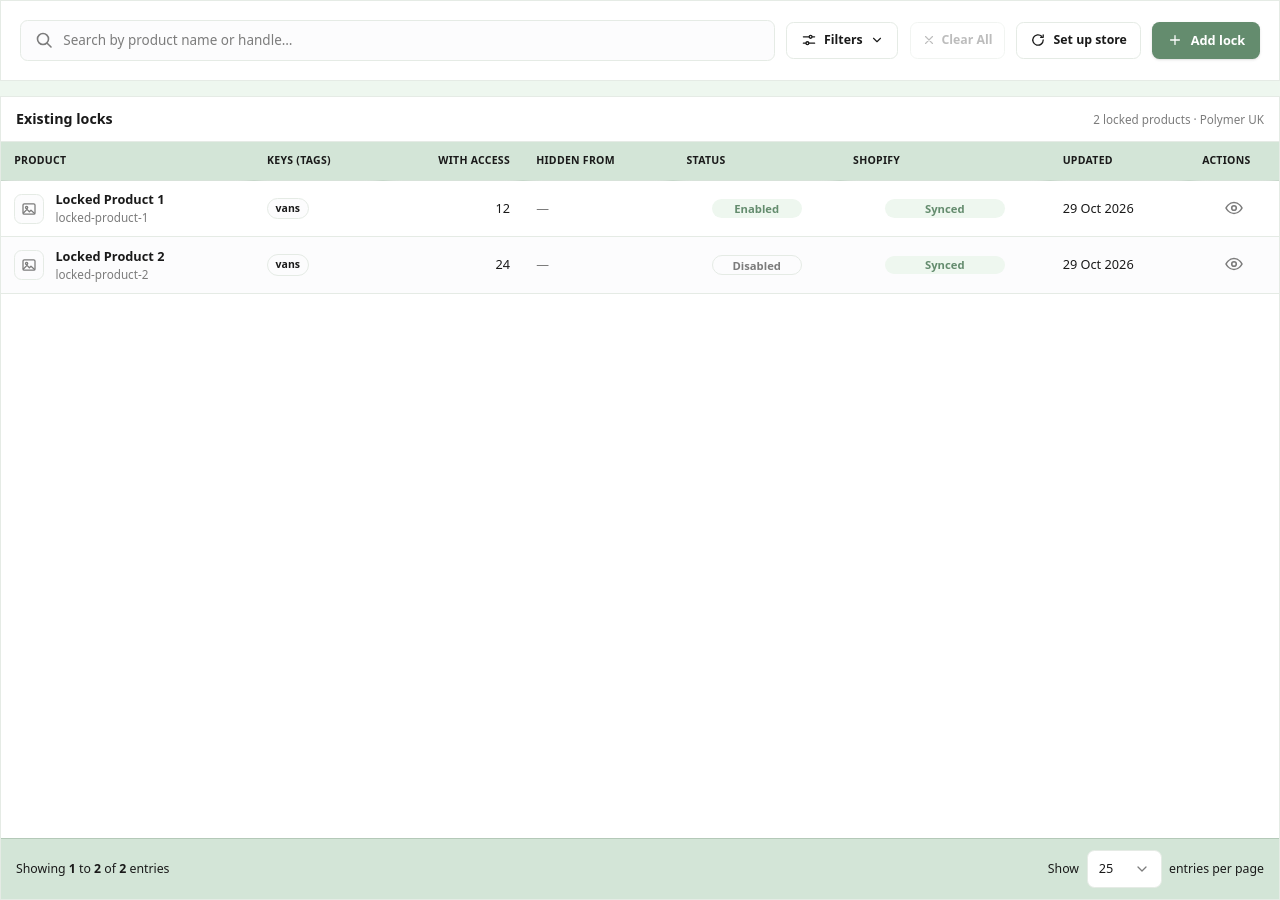
it: LocksPage › list › sets the store up after a confirmation, and says what the backend answered
expect the button "Locked Product 1" is shown: met, box [55,190,164,209]
Click the button "Set up store".
click(1078, 40)  # box [1016,22,1141,59]
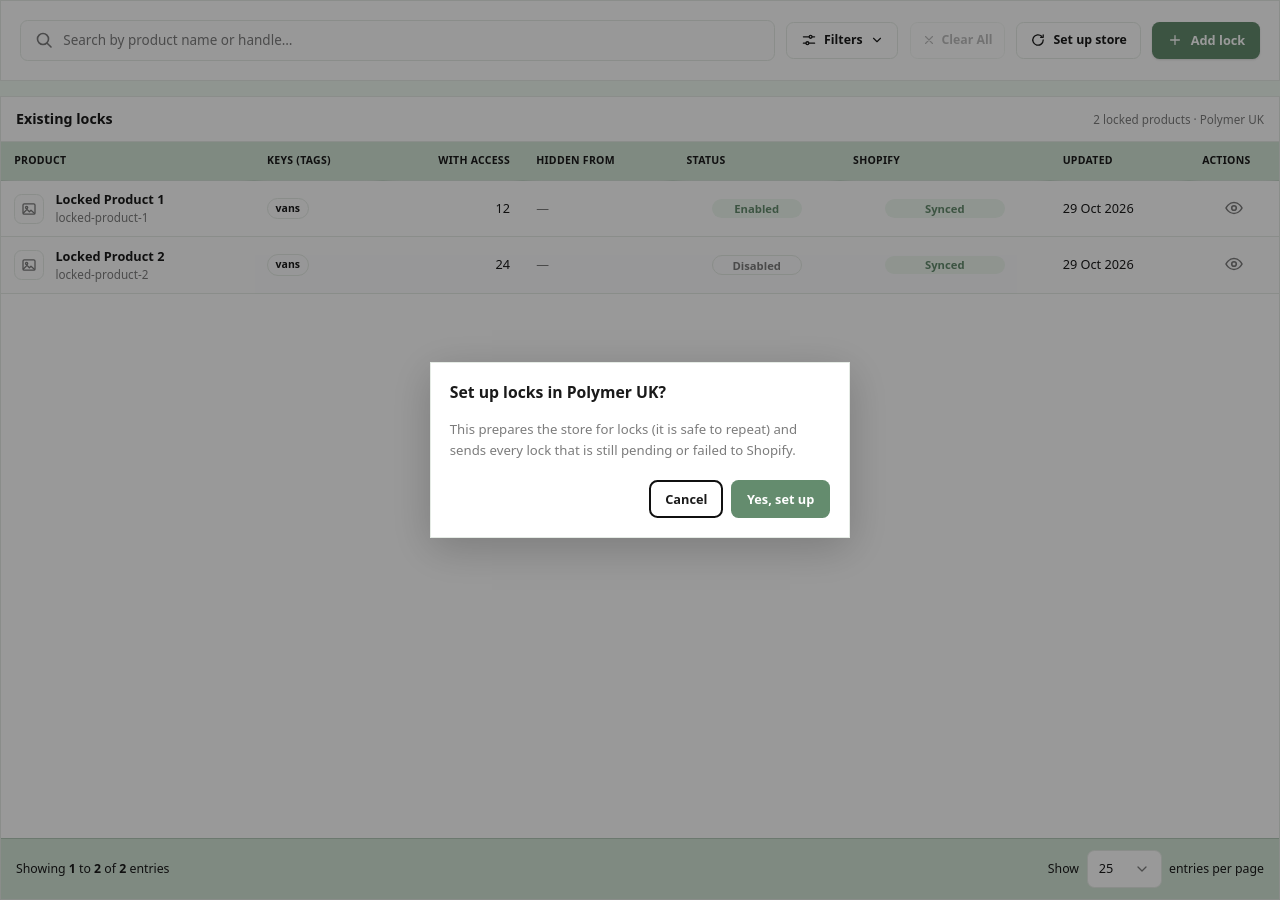
Click the button "Yes, set up".
click(781, 499)  # box [731,480,830,518]
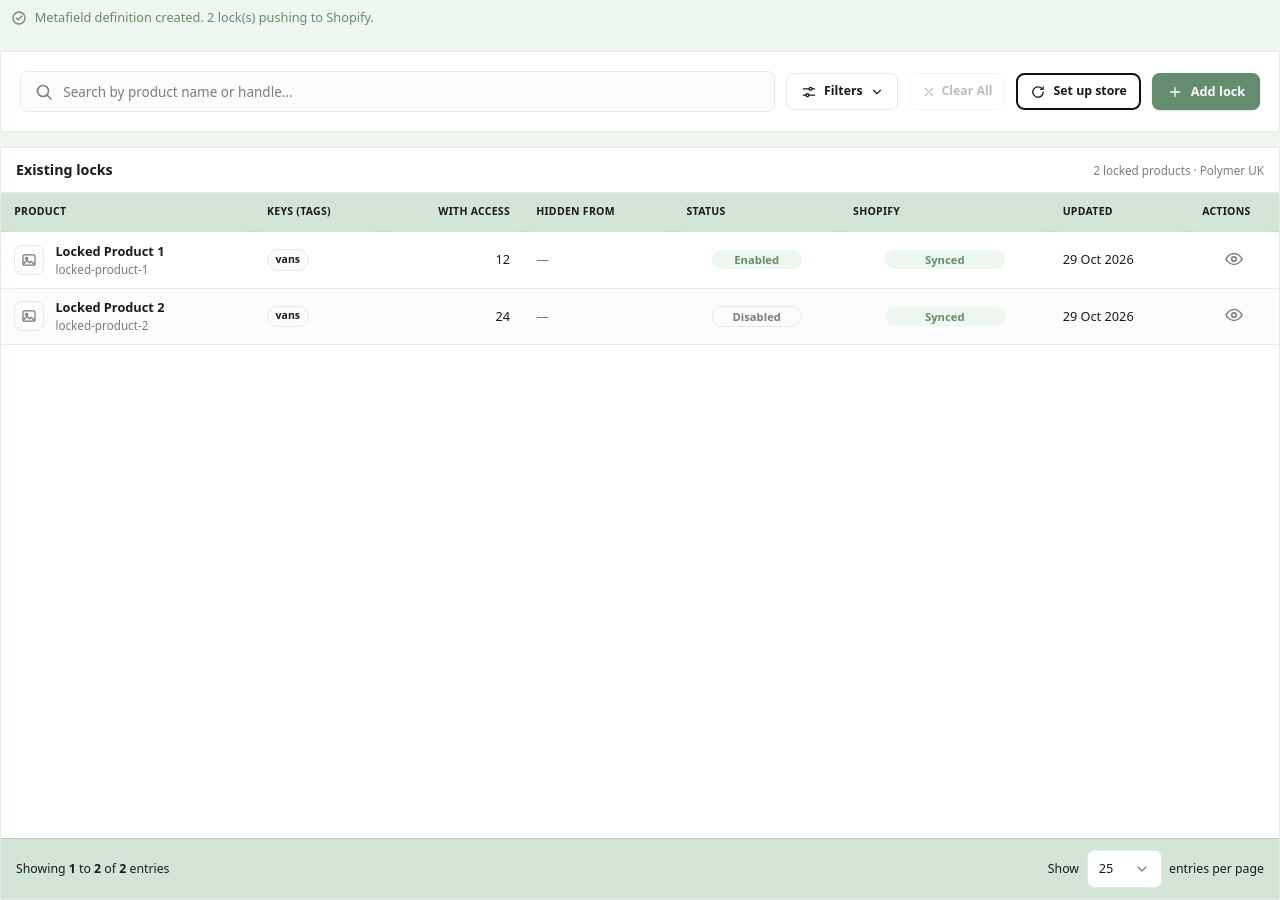
expect the text "Metafield definition created. 2 lock(s) pushing to Shopify." is shown: met, box [35,9,374,27]
